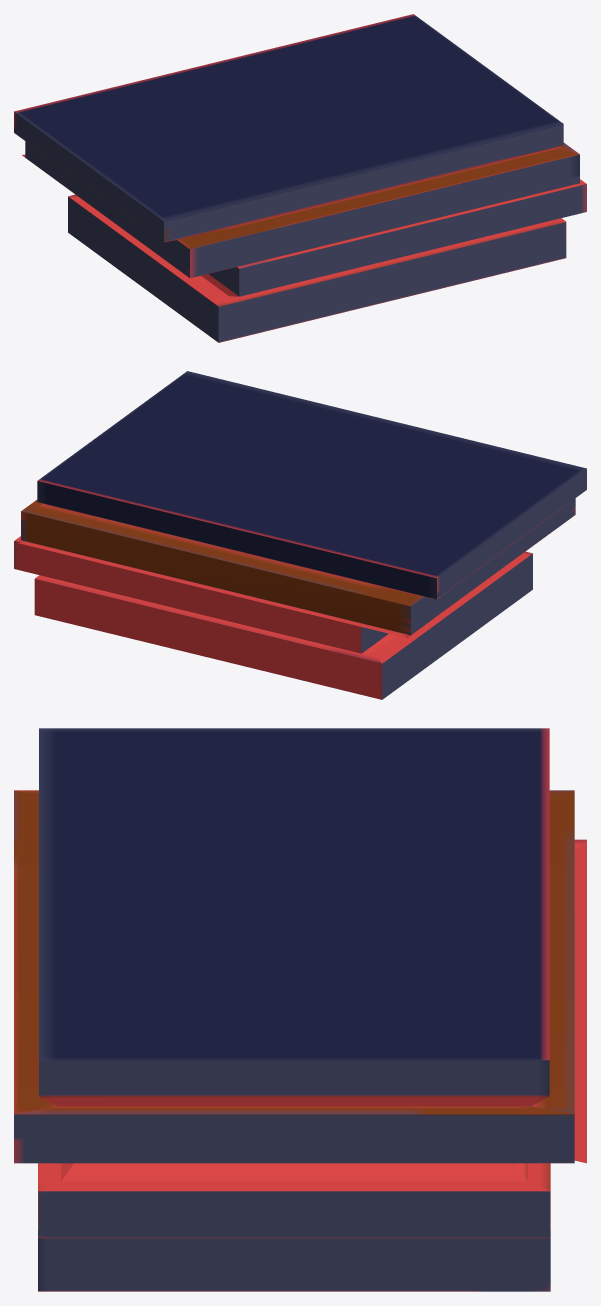
The model's file is SM_Book_1.fbx.
3 renders of one model, top to bottom at view 1: azimuth 30°, elevation 25°; view 2: azimuth 150°, elevation 25°; view 3: azimuth 270°, elevation 25°, orthographic. The views are drawn at different scales.
Parts seen in each view (by area): view 1: SHELF.052; view 2: SHELF.052; view 3: SHELF.052.
Boxes of the visible parts, <box> form: SHELF.052: <box>14,14,586,342</box>; SHELF.052: <box>14,371,586,699</box>; SHELF.052: <box>14,728,586,1291</box>.
Size of the model in its own units: 50.39 by 15.35 by 34.77.
